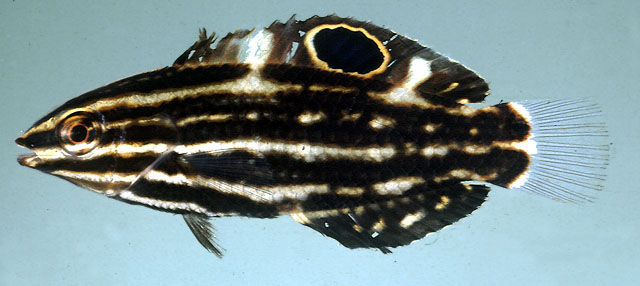fish: (15, 12, 612, 260)
